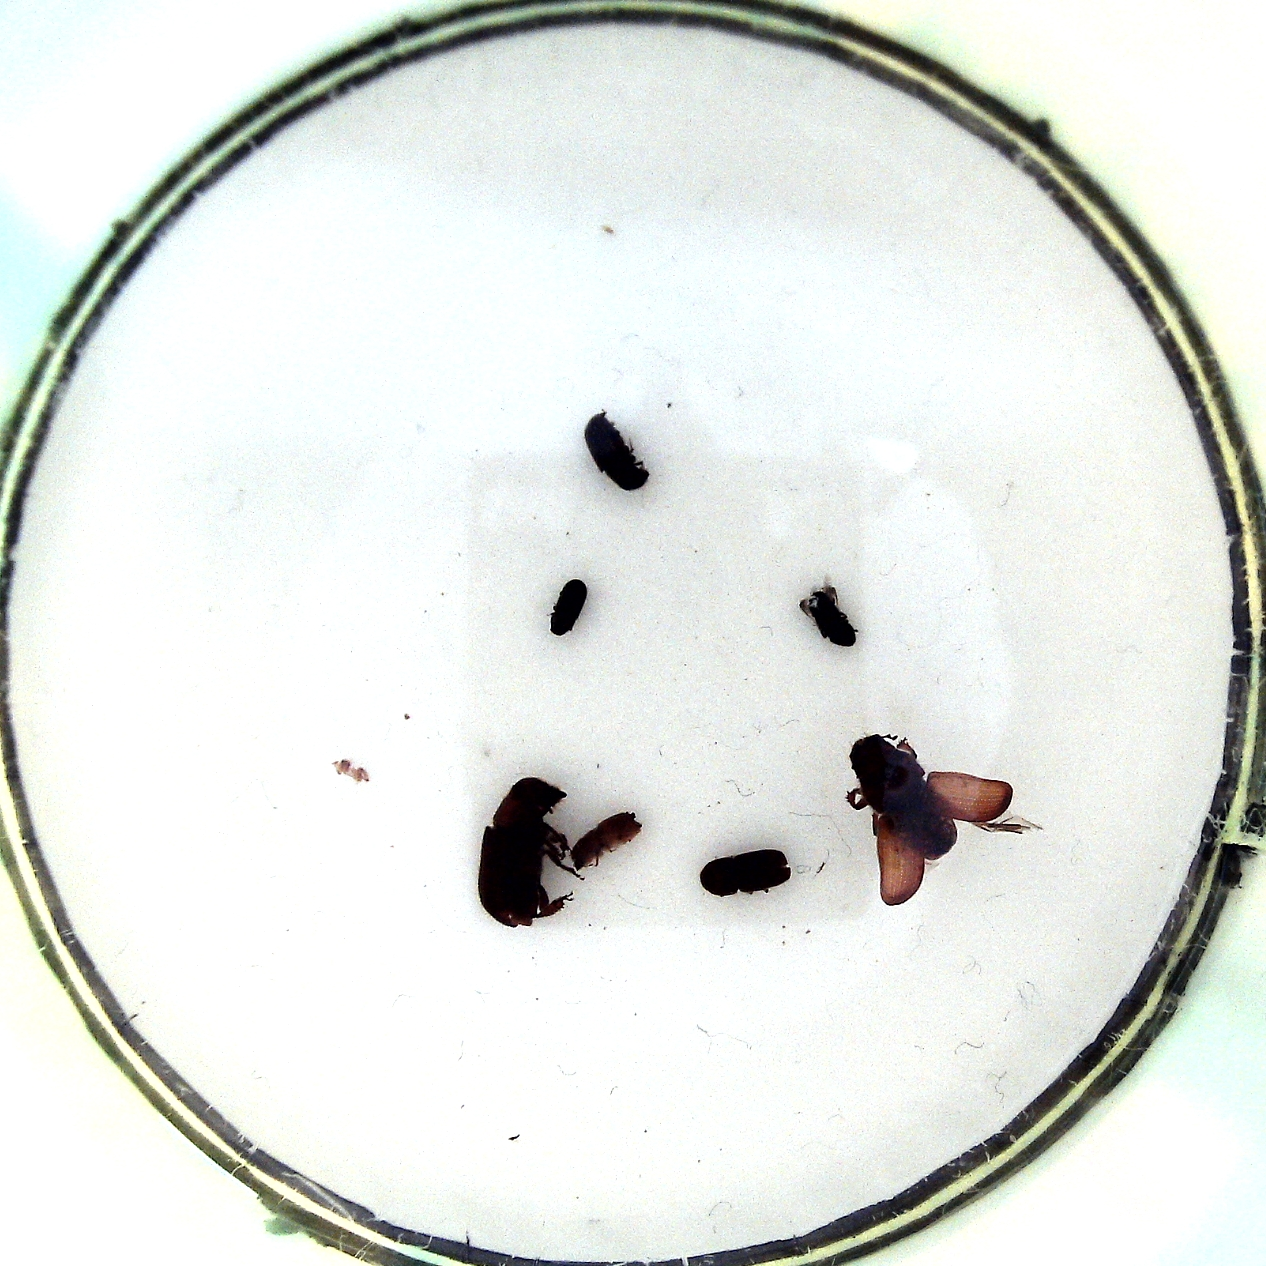Leconte: (845, 732, 1034, 915), (476, 774, 570, 930)
Linnaeus: (693, 843, 799, 902)
acuminatus: (568, 812, 653, 880)
armandi: (584, 405, 655, 505)
coleoptera: (801, 587, 865, 649), (545, 575, 596, 639)
